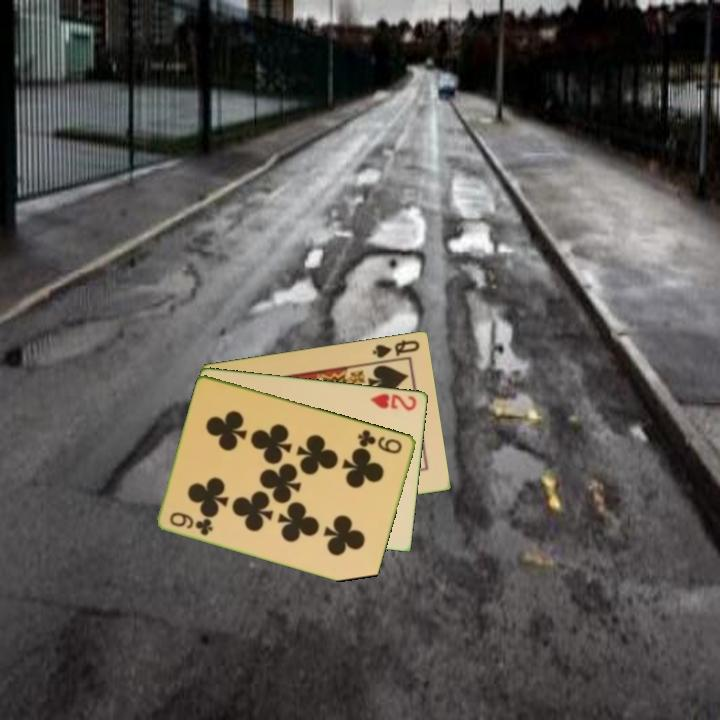2h: (368, 390, 419, 413)
9c: (354, 426, 405, 456), (166, 508, 216, 538)
Qs: (369, 336, 423, 361)
